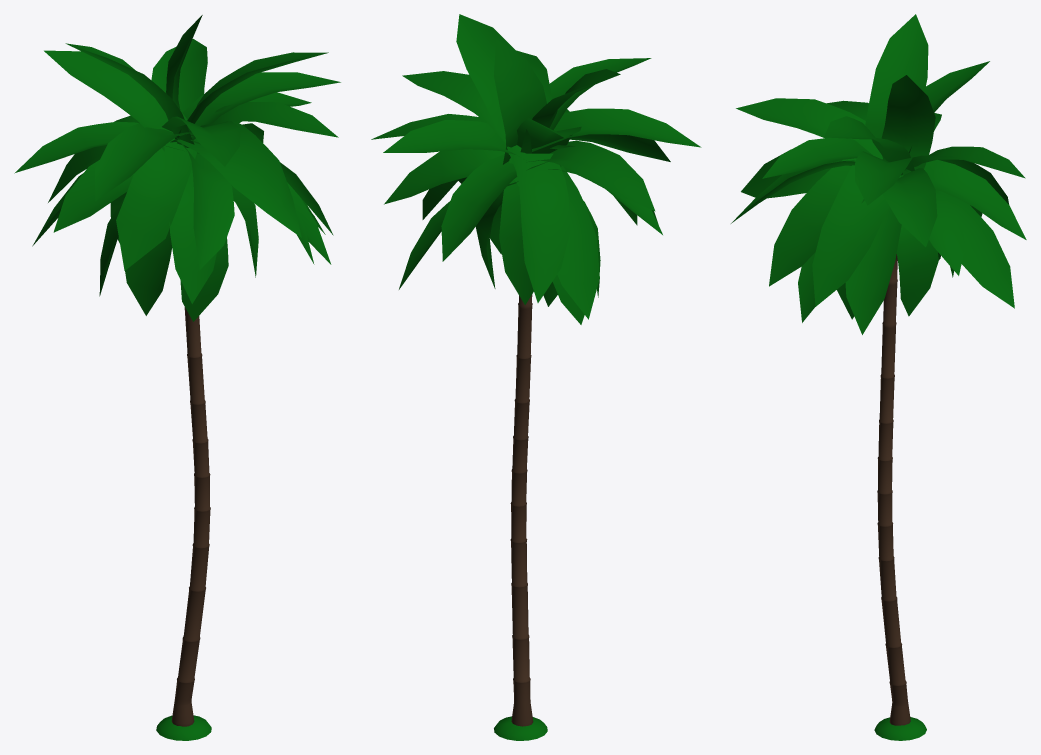
The model's file is tree 1.fbx.
3 views of the same model, side by side, from view 1: azimuth 30°, elevation 25°; view 2: azimuth 150°, elevation 25°; view 3: azimuth 270°, elevation 25° (orthographic). The views are drawn at different scales.
Visible parts, largest first — view 1: coconut tree.003; view 2: coconut tree.003; view 3: coconut tree.003.
Part boxes in pixels (left/top/right/bottom): coconut tree.003: left=14, top=15, right=340, bottom=740; coconut tree.003: left=371, top=14, right=701, bottom=740; coconut tree.003: left=731, top=14, right=1026, bottom=740.
Bounding box in the file's own units: 352 × 805 × 326.
